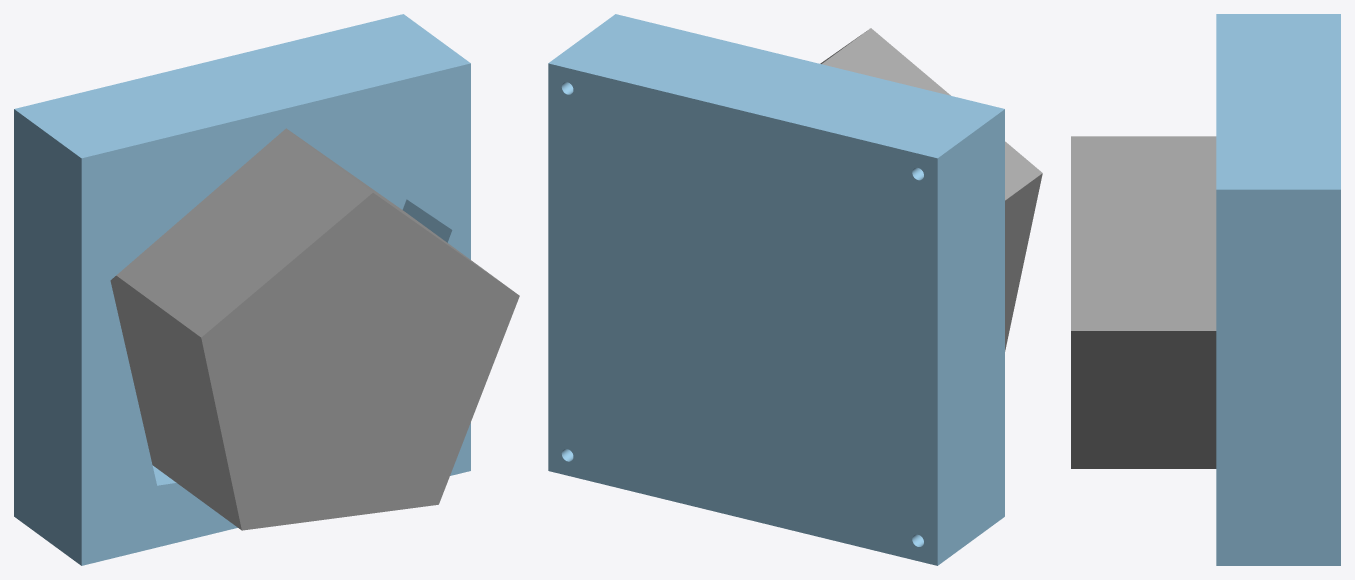
Rendered from k1_3dprint.obj.
3 renders of one model, left to right at view 1: azimuth 30°, elevation 25°; view 2: azimuth 150°, elevation 25°; view 3: azimuth 270°, elevation 25°, orthographic. The views are drawn at different scales.
Visible parts, largest first — view 1: k1; view 2: k1; view 3: k1.
Part boxes in pixels (left/top/right/bottom): k1: left=14, top=14, right=519, bottom=565; k1: left=548, top=14, right=1042, bottom=565; k1: left=1071, top=14, right=1340, bottom=565.
Size of the model in its own units: 1 by 1 by 0.65.
